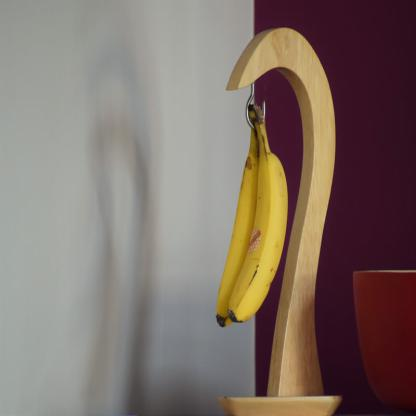banana: (188, 98, 298, 340)
